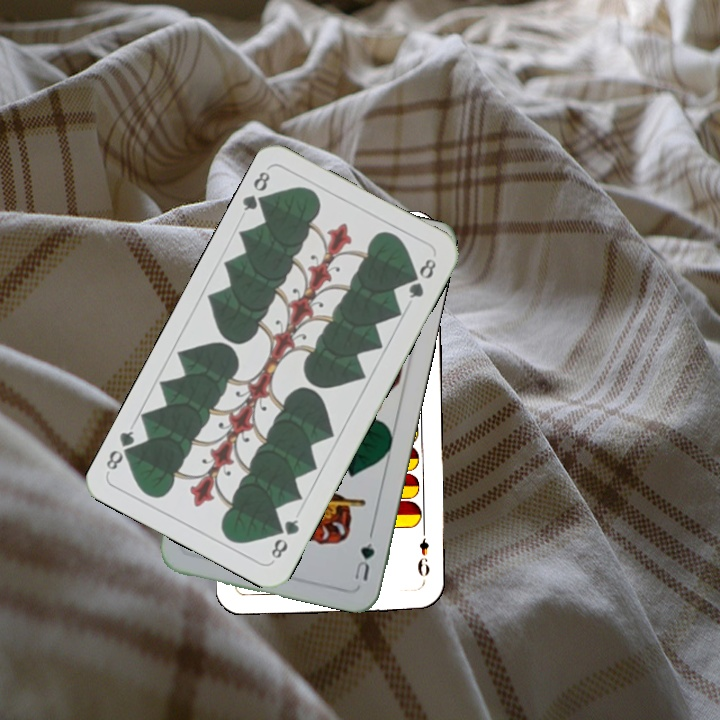E9: (414, 526, 432, 578)
G8: (238, 167, 274, 214), (267, 515, 302, 562)
GU: (349, 539, 377, 584)
